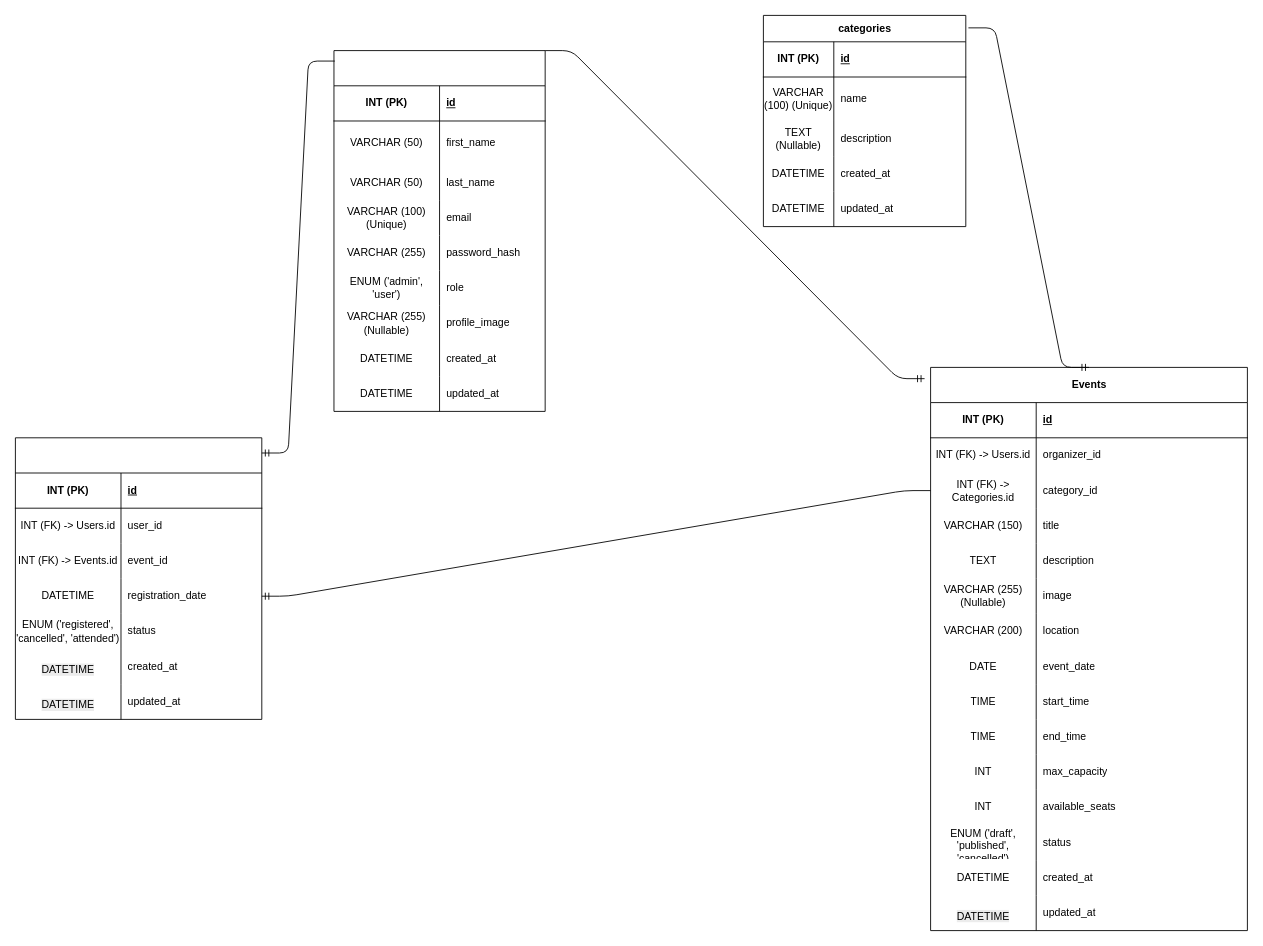
Some shapes in this 1263 by 946 pixel diagram are drawn without their labels. The shapes that lost their labels are listed below. From the top down, each one's box as (x1, y1, x2, y2) in pixels, then its label:
(333, 50, 545, 411): Users
(15, 437, 262, 719): Registrations
